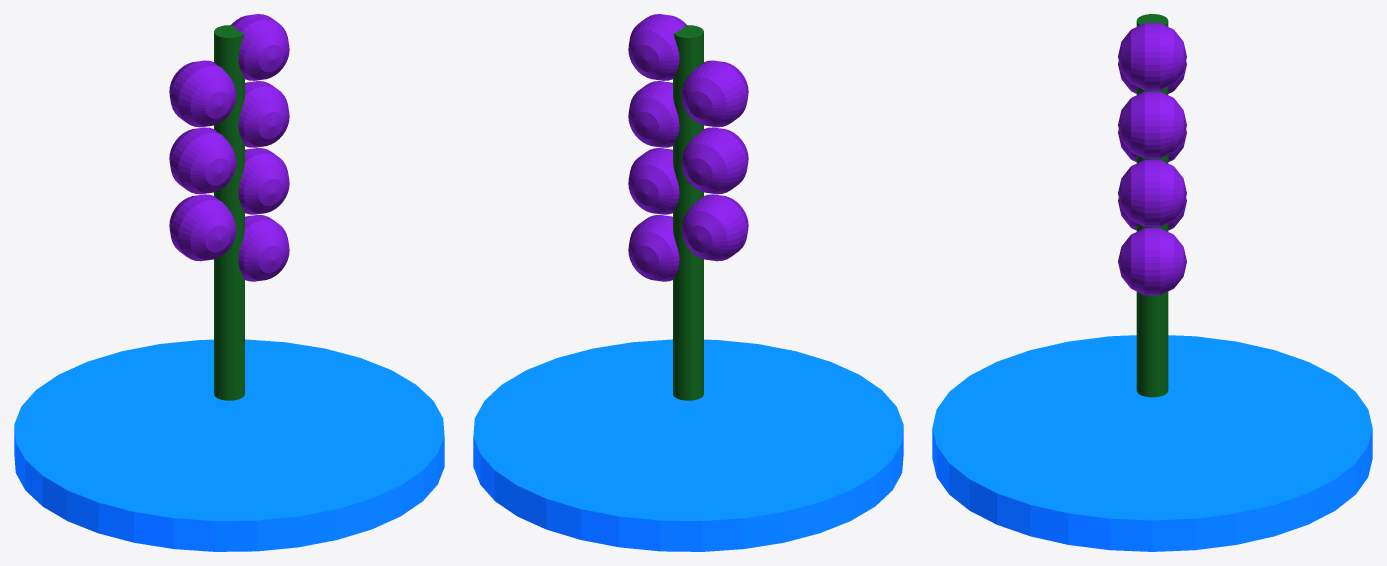
Rendered from french_lavender.dae.
3 renders of one model, left to right at view 1: azimuth 30°, elevation 25°; view 2: azimuth 150°, elevation 25°; view 3: azimuth 270°, elevation 25°, orthographic. The views are drawn at different scales.
Visible parts, largest first — view 1: 10_14_Popular_French_Lavender_ROOT_base, 10_14_Popular_French_Lavender_part_01, 10_14_Popular_French_Lavender_part_07, 10_14_Popular_French_Lavender_part_03, 10_14_Popular_French_Lavender_part_05, 10_14_Popular_French_Lavender_part_08, 10_14_Popular_French_Lavender_part_04, 10_14_Popular_French_Lavender_part_02, 10_14_Popular_French_Lavender_part_06; view 2: 10_14_Popular_French_Lavender_ROOT_base, 10_14_Popular_French_Lavender_part_01, 10_14_Popular_French_Lavender_part_07, 10_14_Popular_French_Lavender_part_03, 10_14_Popular_French_Lavender_part_05, 10_14_Popular_French_Lavender_part_08, 10_14_Popular_French_Lavender_part_04, 10_14_Popular_French_Lavender_part_02, 10_14_Popular_French_Lavender_part_06; view 3: 10_14_Popular_French_Lavender_ROOT_base, 10_14_Popular_French_Lavender_part_01, 10_14_Popular_French_Lavender_part_02, 10_14_Popular_French_Lavender_part_08, 10_14_Popular_French_Lavender_part_06, 10_14_Popular_French_Lavender_part_04.
Boxes of the visible parts, x1=… form: 10_14_Popular_French_Lavender_ROOT_base: x1=14, y1=339, x2=444, y2=551; 10_14_Popular_French_Lavender_part_01: x1=214, y1=25, x2=244, y2=400; 10_14_Popular_French_Lavender_part_07: x1=169, y1=60, x2=236, y2=127; 10_14_Popular_French_Lavender_part_03: x1=169, y1=194, x2=236, y2=261; 10_14_Popular_French_Lavender_part_05: x1=169, y1=127, x2=236, y2=194; 10_14_Popular_French_Lavender_part_08: x1=231, y1=14, x2=289, y2=80; 10_14_Popular_French_Lavender_part_04: x1=238, y1=148, x2=289, y2=214; 10_14_Popular_French_Lavender_part_02: x1=238, y1=215, x2=289, y2=281; 10_14_Popular_French_Lavender_part_06: x1=238, y1=81, x2=289, y2=147; 10_14_Popular_French_Lavender_ROOT_base: x1=473, y1=339, x2=903, y2=551; 10_14_Popular_French_Lavender_part_01: x1=673, y1=25, x2=703, y2=400; 10_14_Popular_French_Lavender_part_07: x1=681, y1=60, x2=748, y2=127; 10_14_Popular_French_Lavender_part_03: x1=681, y1=194, x2=748, y2=261; 10_14_Popular_French_Lavender_part_05: x1=681, y1=127, x2=748, y2=194; 10_14_Popular_French_Lavender_part_08: x1=628, y1=14, x2=686, y2=80; 10_14_Popular_French_Lavender_part_04: x1=628, y1=148, x2=679, y2=214; 10_14_Popular_French_Lavender_part_02: x1=628, y1=215, x2=679, y2=281; 10_14_Popular_French_Lavender_part_06: x1=628, y1=81, x2=679, y2=147; 10_14_Popular_French_Lavender_ROOT_base: x1=932, y1=335, x2=1372, y2=551; 10_14_Popular_French_Lavender_part_01: x1=1136, y1=14, x2=1168, y2=397; 10_14_Popular_French_Lavender_part_02: x1=1118, y1=228, x2=1186, y2=295; 10_14_Popular_French_Lavender_part_08: x1=1118, y1=23, x2=1186, y2=90; 10_14_Popular_French_Lavender_part_06: x1=1118, y1=91, x2=1186, y2=158; 10_14_Popular_French_Lavender_part_04: x1=1118, y1=159, x2=1186, y2=226.
Bounding box in the file's own units: 0.76 × 0.85 × 0.76.
